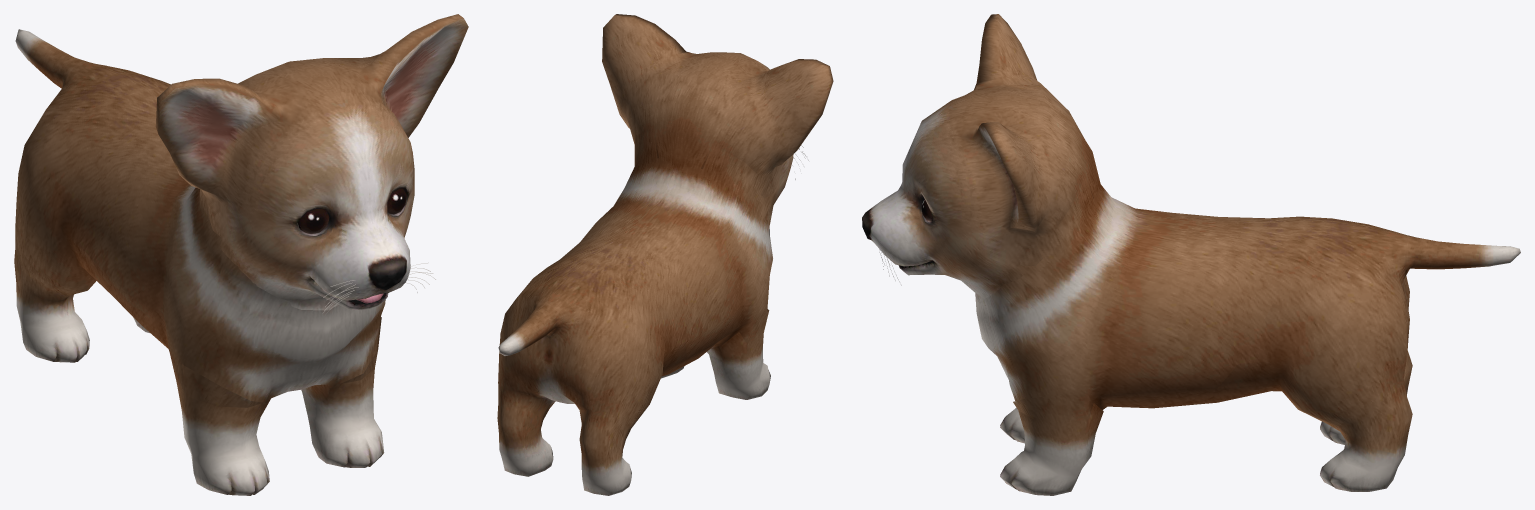
The model's file is dog.FBX.
3 views of the same model, side by side, from view 1: azimuth 30°, elevation 25°; view 2: azimuth 150°, elevation 25°; view 3: azimuth 270°, elevation 25° (orthographic). The views are drawn at different scales.
Visible parts, largest first — view 1: Body, Body_Cloth; view 2: Body, Body_Cloth; view 3: Body, Body_Cloth.
Part boxes in pixels (bbox=[...]): Body: bbox=[14, 14, 468, 495]; Body_Cloth: bbox=[25, 32, 421, 417]; Body: bbox=[497, 14, 833, 495]; Body_Cloth: bbox=[509, 24, 797, 430]; Body: bbox=[862, 14, 1520, 495]; Body_Cloth: bbox=[889, 39, 1368, 441].
Bounding box in the file's own units: 1.15 × 2.42 × 1.57.
